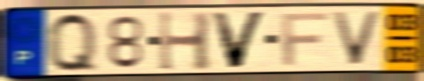8: (104, 14, 145, 70)
F: (279, 11, 331, 68)
H: (157, 10, 214, 73)
Q: (44, 10, 101, 75)
V: (208, 10, 270, 71), (329, 10, 385, 67)
